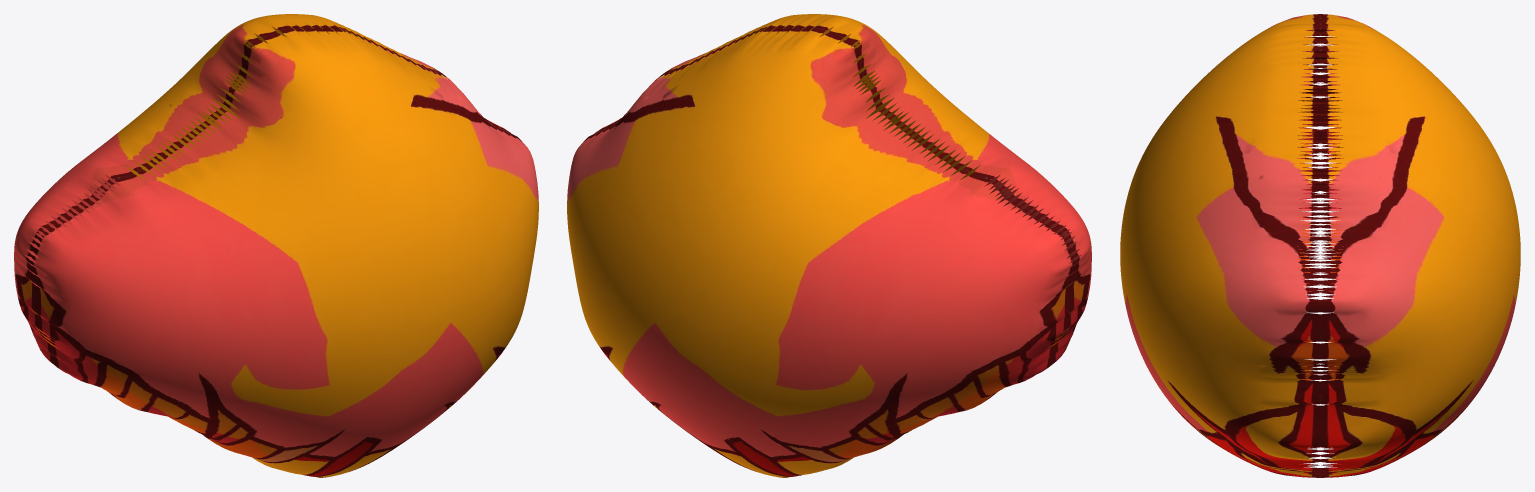
File: lava_edge_ledge.glb
The picture shows the model from 3 angles, left to right: view 1: azimuth 30°, elevation 25°; view 2: azimuth 150°, elevation 25°; view 3: azimuth 270°, elevation 25°; orthographic projection.
Visible parts, largest first — view 1: lava_edge_ledge; view 2: lava_edge_ledge; view 3: lava_edge_ledge.
Boxes of the visible parts, bbox=[...] form: lava_edge_ledge: bbox=[14, 14, 538, 477]; lava_edge_ledge: bbox=[567, 14, 1091, 477]; lava_edge_ledge: bbox=[1120, 14, 1520, 477].
Size of the model in its own units: 0.9888 by 0.8488 by 0.709.
Materials: 1 (1 with a texture image).
